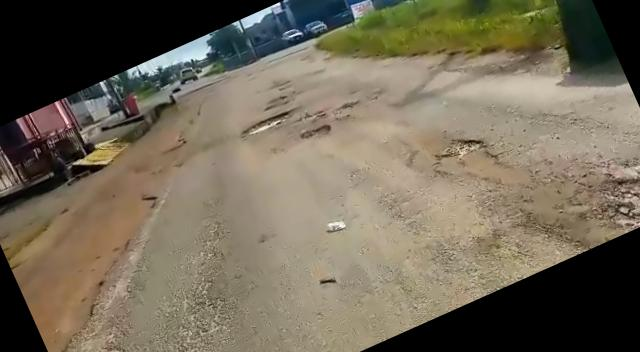pothole: (426, 113, 542, 222), (592, 147, 640, 232), (236, 105, 294, 139), (294, 118, 334, 144)
